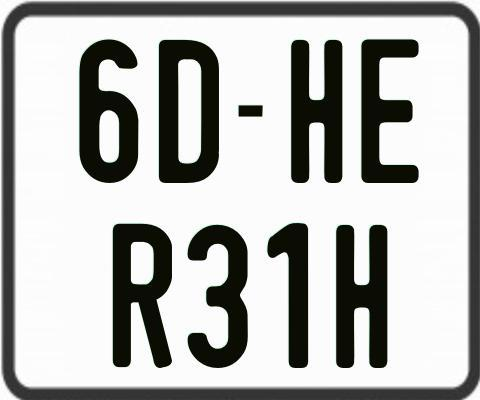1: (266, 223, 311, 374)
3: (188, 223, 253, 367)
6: (77, 37, 137, 181)
D: (157, 39, 220, 184)
E: (359, 38, 420, 187)
H: (336, 224, 391, 369), (288, 37, 341, 184)
R: (112, 222, 177, 368)
